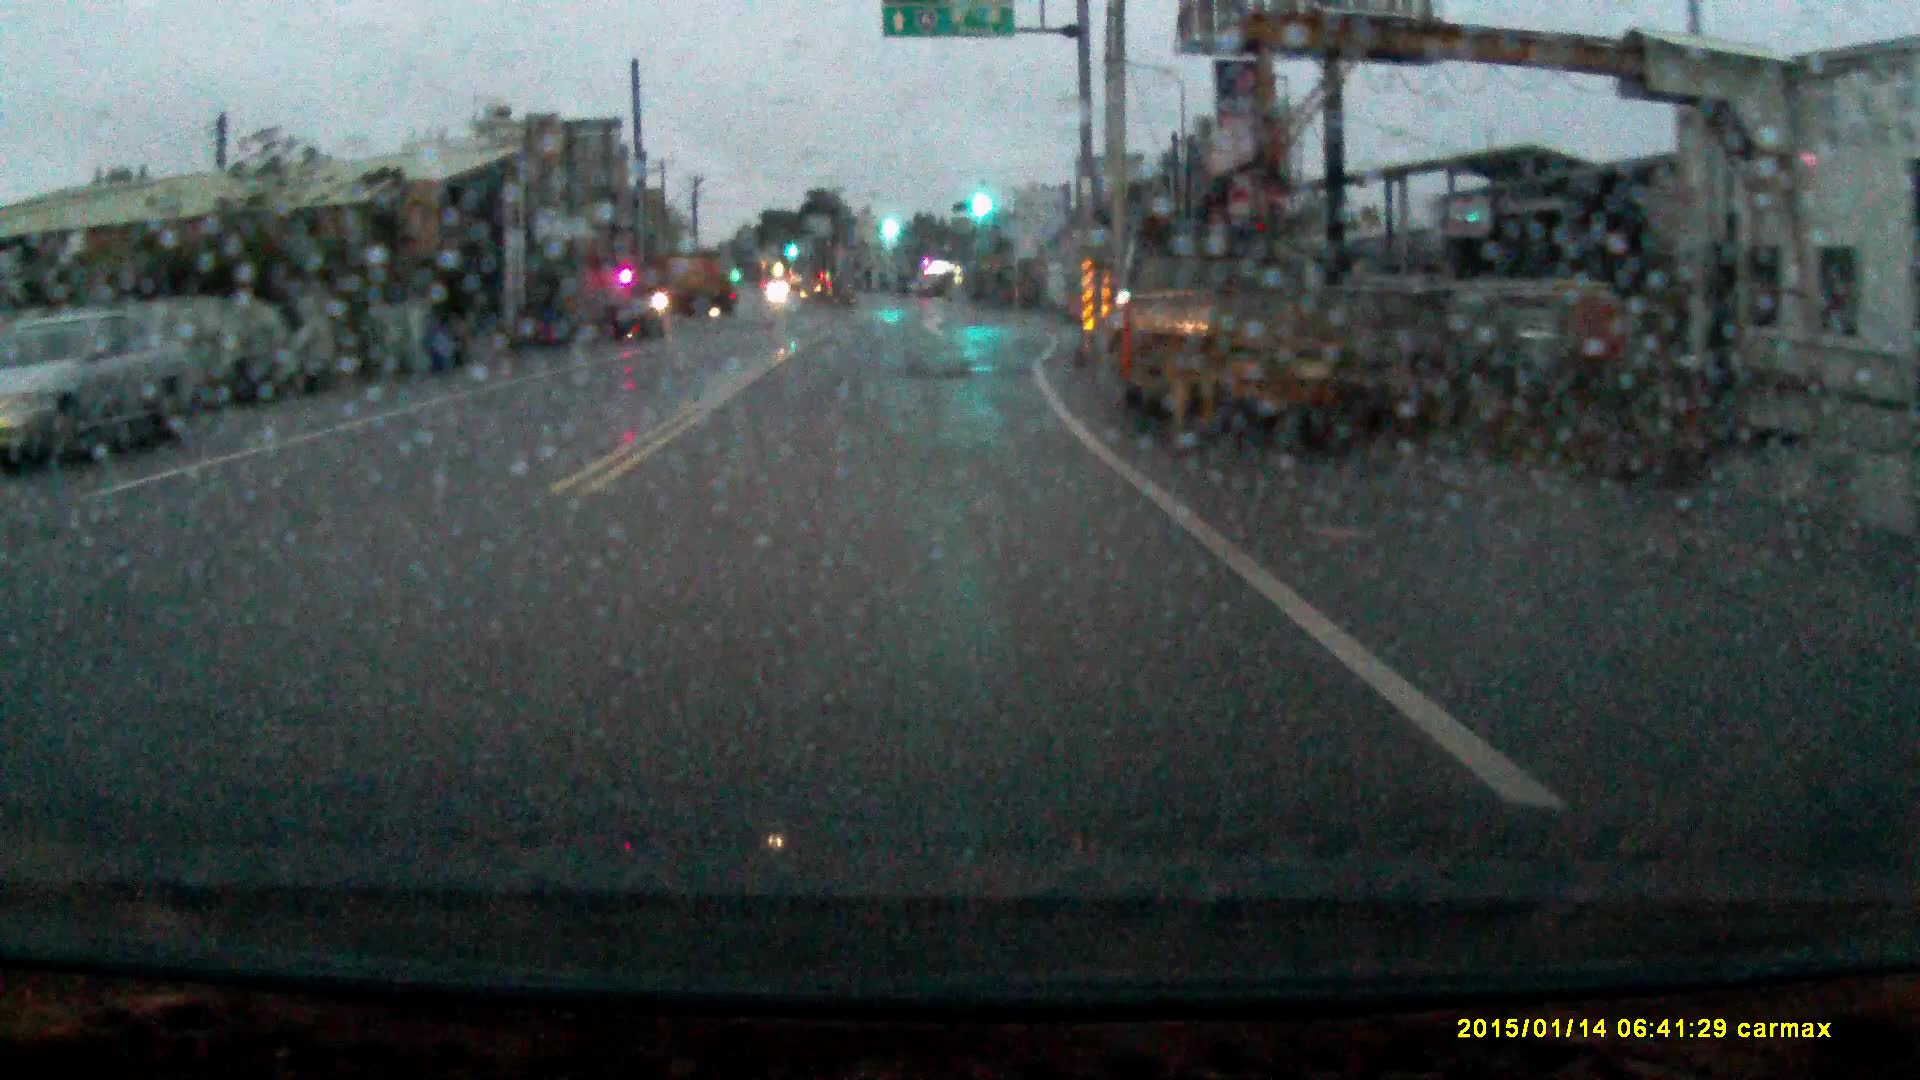vehicle: (1106, 219, 1449, 455), (1, 310, 202, 471), (647, 255, 741, 315)
